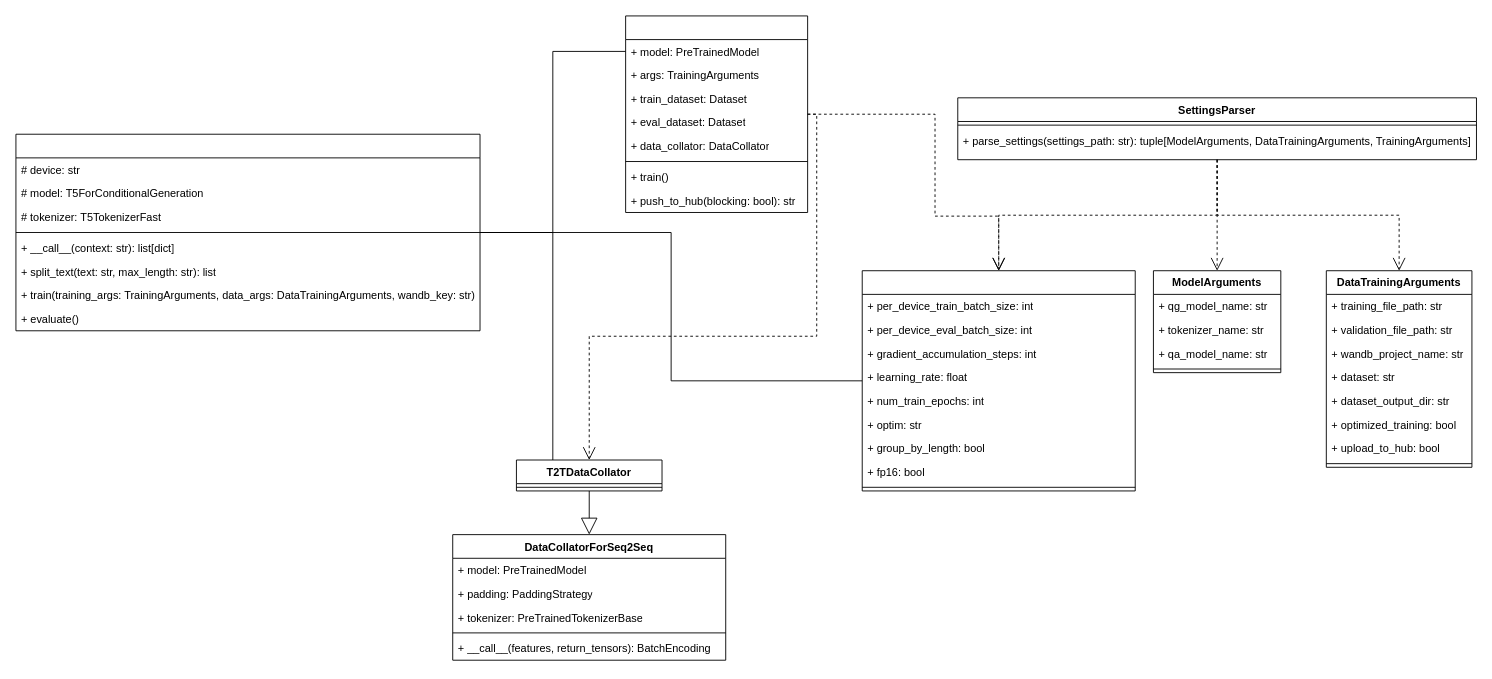
Some shapes in this 1492 by 679 pixel diagram are drawn without their labels. The shapes that lost their labels are listed below. From the top down, each one's box as (x1, y1, x2, y2) in pixels, then its label:
(625, 15, 808, 212): Trainer
(15, 133, 480, 331): QG
(861, 270, 1135, 491): TrainingArguments
